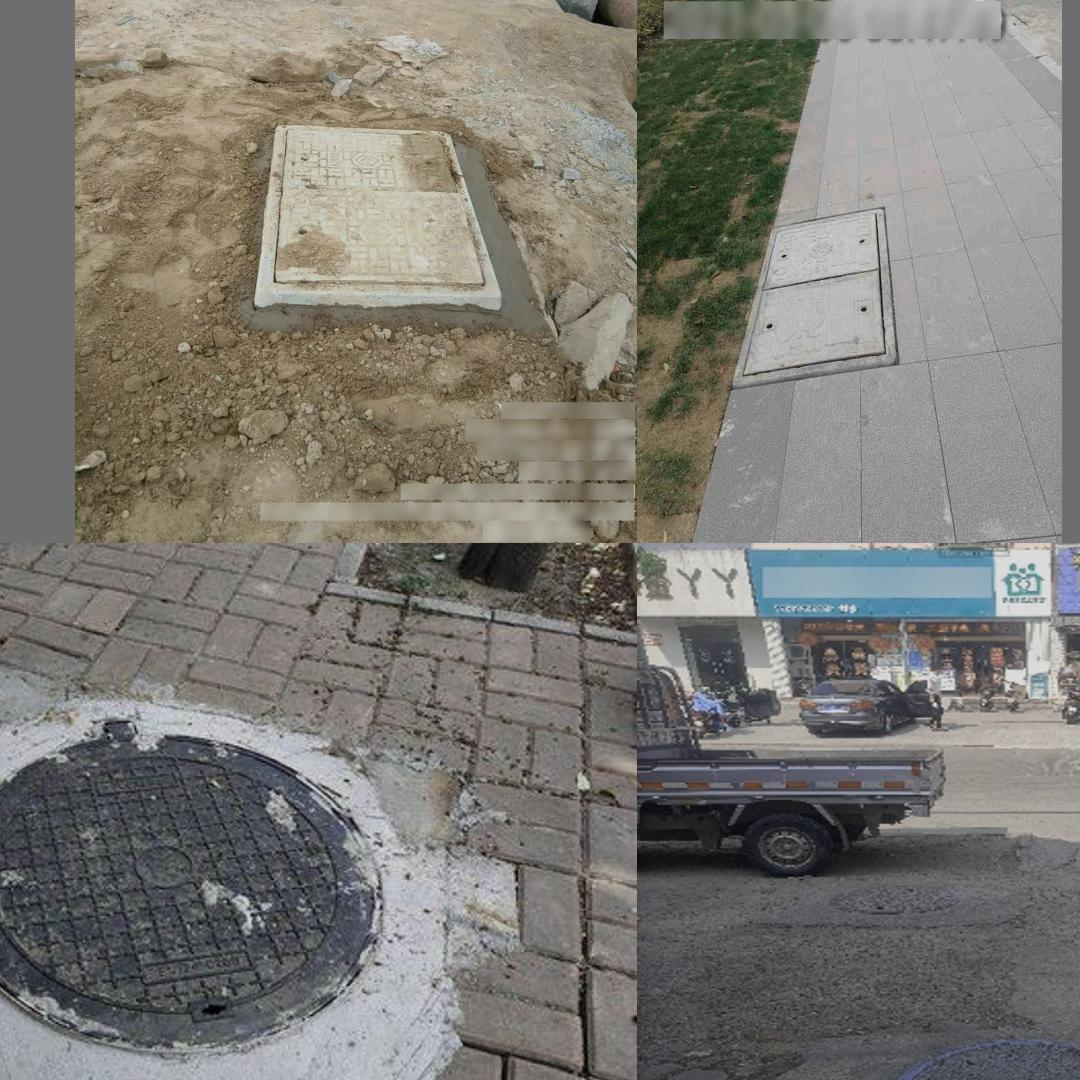good: (0, 692, 458, 1080), (251, 125, 503, 307), (728, 221, 898, 391), (883, 1037, 1080, 1080)
